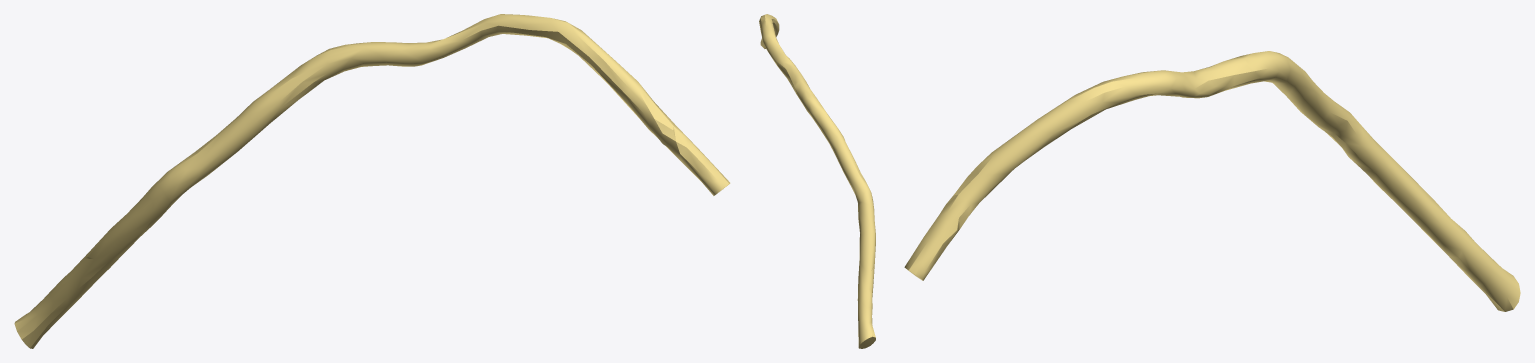
File: fma287233_mm2636.glb
The picture shows the model from 3 angles, left to right: view 1: azimuth 30°, elevation 25°; view 2: azimuth 150°, elevation 25°; view 3: azimuth 270°, elevation 25°; orthographic projection. The views are drawn at different scales.
Parts seen in each view (by area): view 1: FMA287233_MM2636; view 2: FMA287233_MM2636; view 3: FMA287233_MM2636.
Part boxes in pixels (left/top/right/bottom): FMA287233_MM2636: left=14, top=14, right=730, bottom=348; FMA287233_MM2636: left=759, top=14, right=875, bottom=348; FMA287233_MM2636: left=904, top=51, right=1520, bottom=311.
Bounding box in the file's own units: 0.0232 × 0.018 × 0.0239.
